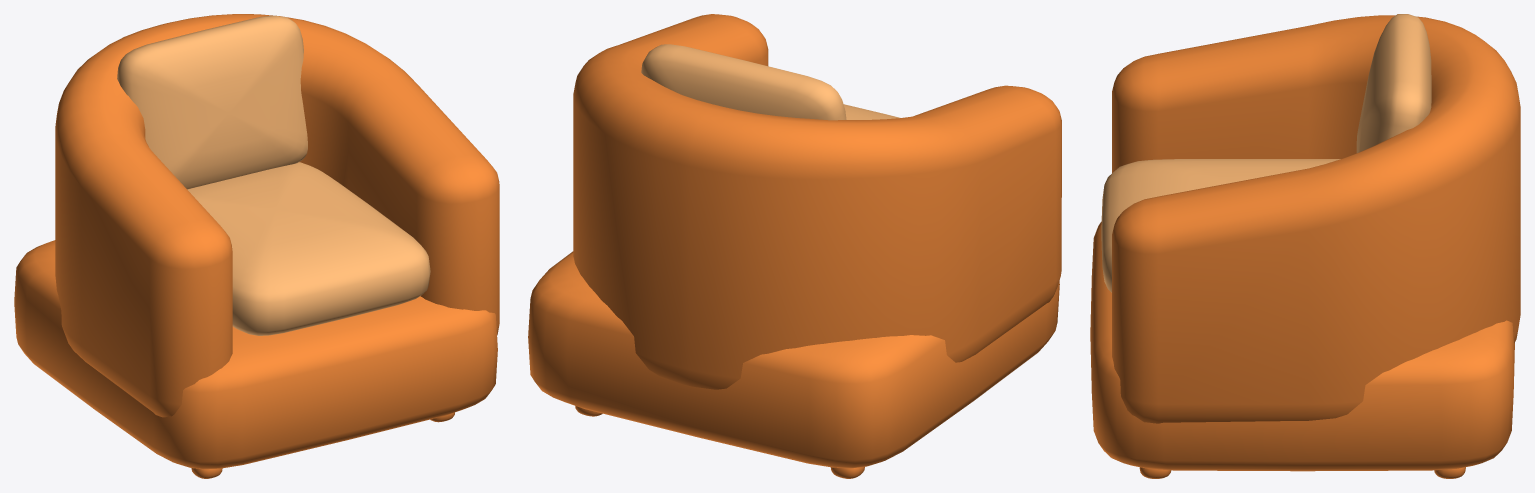
File: poltrona_casulo_laranja.glb
3 renders of one model, left to right at view 1: azimuth 30°, elevation 25°; view 2: azimuth 150°, elevation 25°; view 3: azimuth 270°, elevation 25°, orthographic. The views are drawn at different scales.
Parts seen in each view (by area): view 1: poltrona_casulo_laranja; view 2: poltrona_casulo_laranja; view 3: poltrona_casulo_laranja.
Boxes of the visible parts, left/top/right/bottom form: poltrona_casulo_laranja: left=14, top=14, right=499, bottom=478; poltrona_casulo_laranja: left=528, top=14, right=1061, bottom=478; poltrona_casulo_laranja: left=1090, top=14, right=1520, bottom=478.
Size of the model in its own units: 0.8 by 0.736 by 0.79.
Materials: 1 (1 with a texture image).
